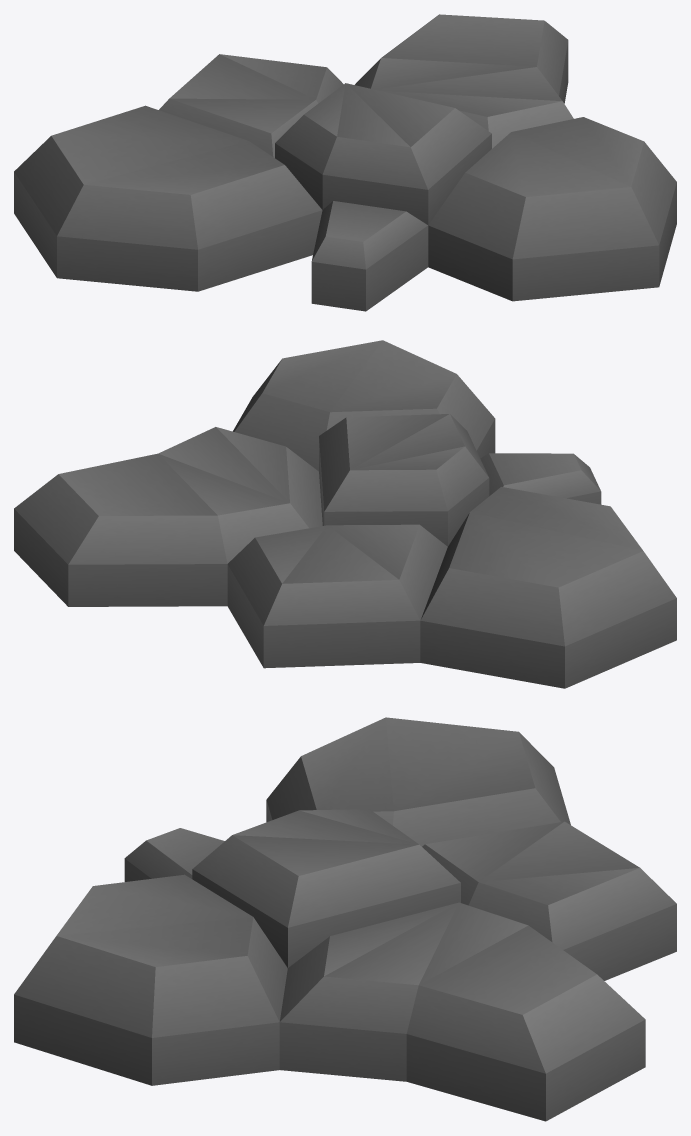
Rendered from pack02_rocks_14.fbx.
3 renders of one model, top to bottom at view 1: azimuth 30°, elevation 25°; view 2: azimuth 150°, elevation 25°; view 3: azimuth 270°, elevation 25°, orthographic. The views are drawn at different scales.
Parts seen in each view (by area): view 1: Rock Type4 02 mesh; view 2: Rock Type4 02 mesh; view 3: Rock Type4 02 mesh.
Boxes of the visible parts, box(x1,y1,x2,y2) form: Rock Type4 02 mesh: box(14, 14, 676, 311); Rock Type4 02 mesh: box(14, 340, 676, 688); Rock Type4 02 mesh: box(14, 717, 676, 1121).
Size of the model in its own units: 303 by 53 by 261.
1 material, 1 textured.
